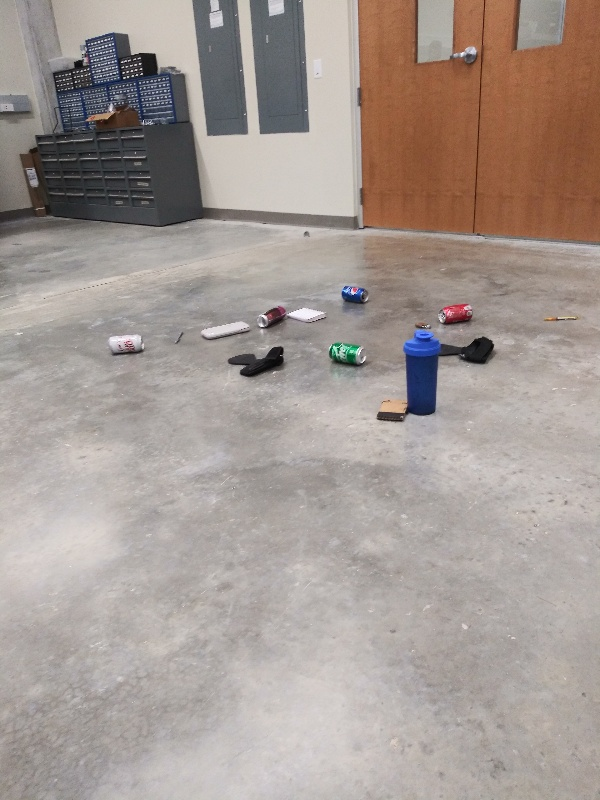can: (325, 339, 370, 367), (106, 330, 149, 357), (434, 300, 477, 327), (254, 303, 290, 331), (340, 283, 371, 306)
